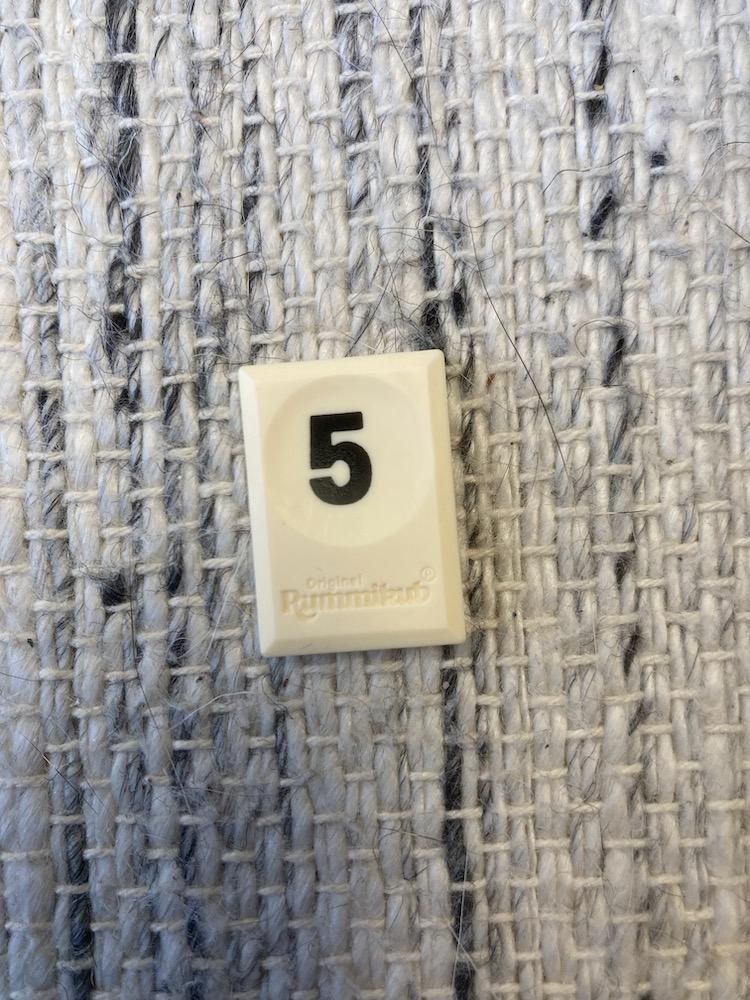black_5: (238, 350, 464, 654)
